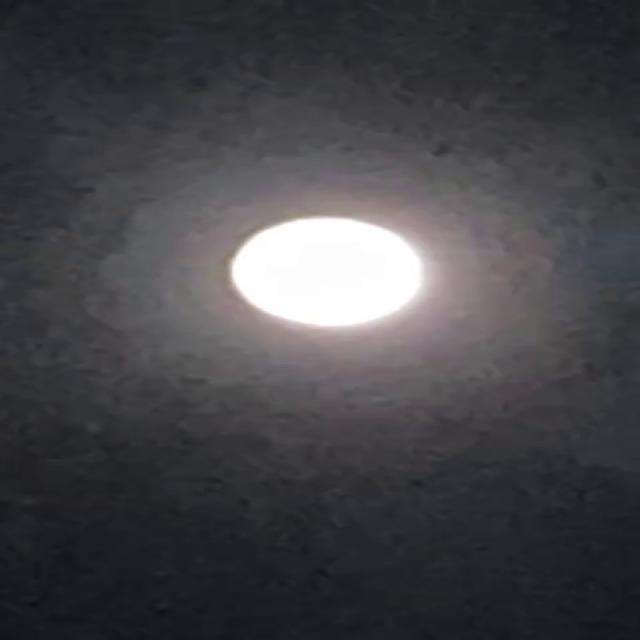moon: (202, 201, 440, 345)
